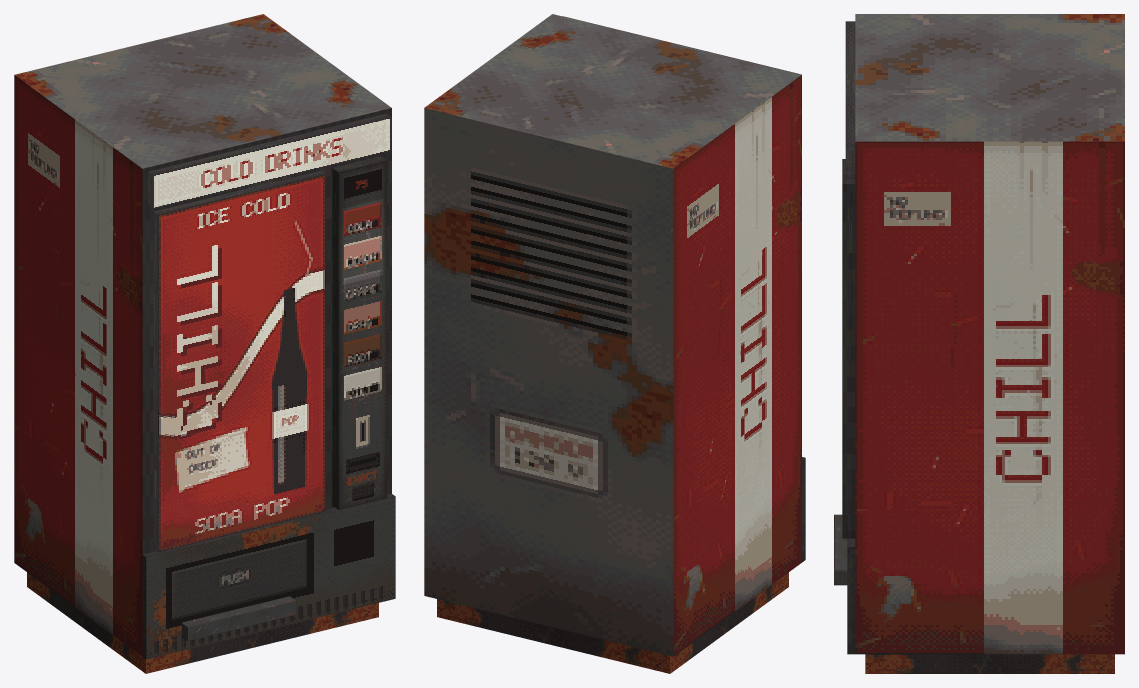
File: vending_machine.glb
3 renders of one model, left to right at view 1: azimuth 30°, elevation 25°; view 2: azimuth 150°, elevation 25°; view 3: azimuth 270°, elevation 25°, orthographic. The views are drawn at different scales.
Visible parts, largest first — view 1: vending_machine; view 2: vending_machine; view 3: vending_machine.
Part boxes in pixels (x1,y1,x2,y2): vending_machine: [14, 14, 395, 673]; vending_machine: [424, 14, 805, 673]; vending_machine: [834, 14, 1124, 673].
Bounding box in the file's own units: 0.92 × 1.8 × 0.885.
Materials: 2 (2 with a texture image).
